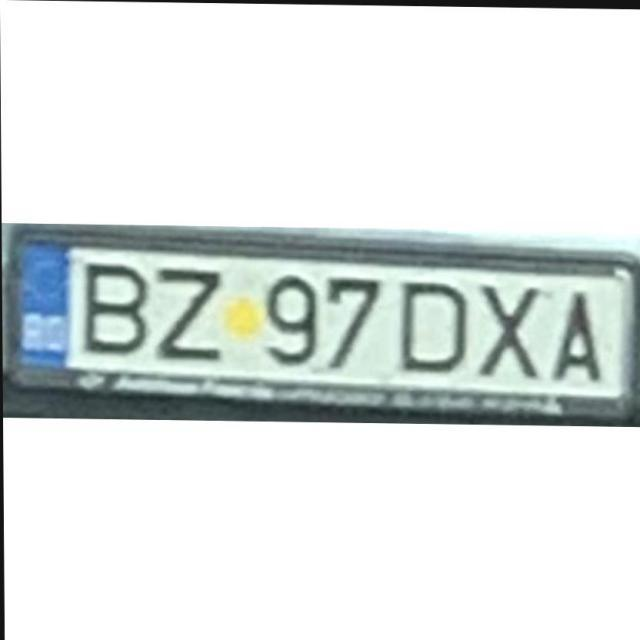license-plates: (15, 230, 637, 417)
